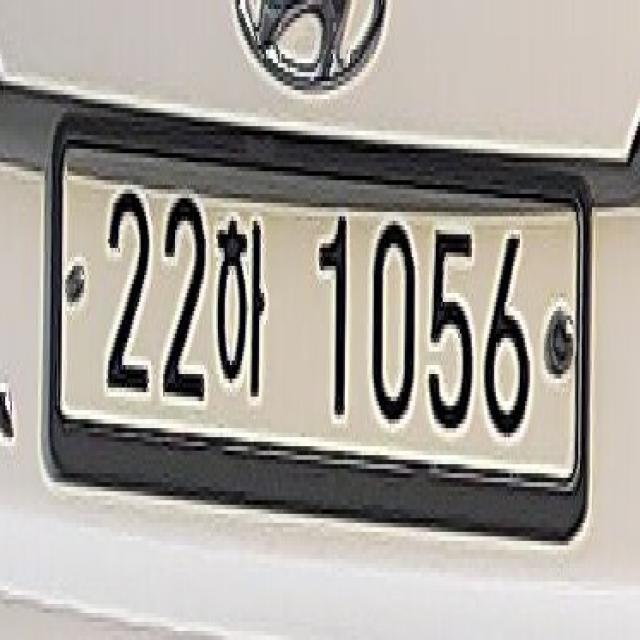0: (366, 214, 423, 440)
1: (308, 206, 356, 427)
2: (100, 180, 156, 410), (160, 182, 213, 419)
5: (423, 206, 480, 449)
6: (481, 215, 536, 448)
ha: (214, 195, 272, 416)
license_plate: (60, 139, 585, 490)
